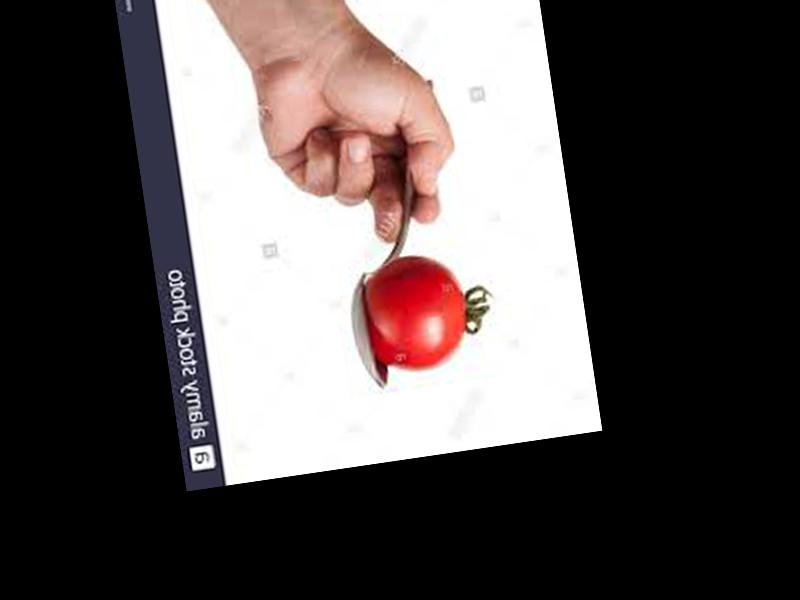Tomato: (360, 248, 474, 374)
